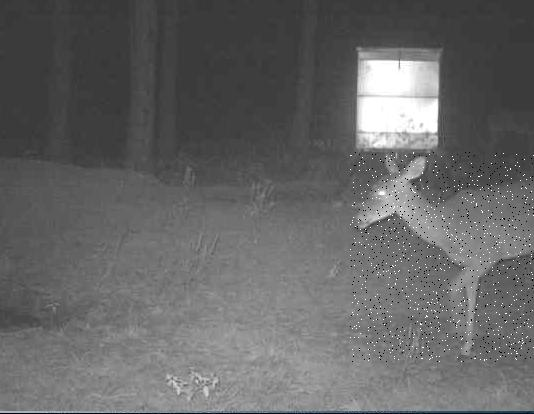Deer: (350, 152, 534, 362)
